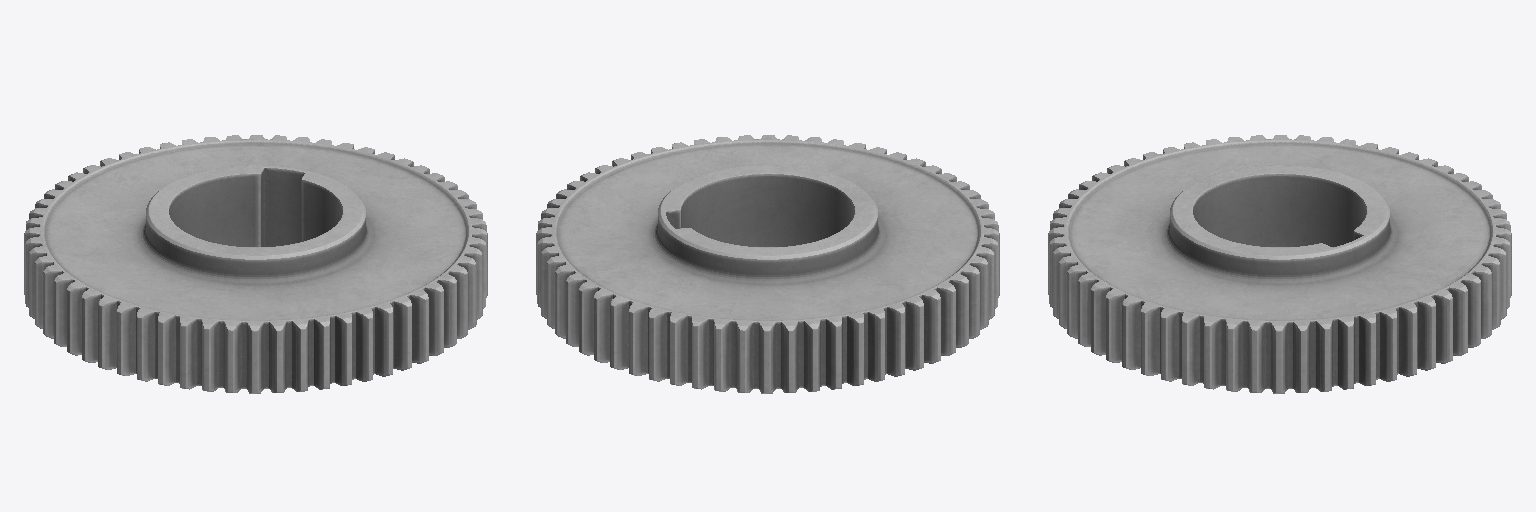
3 renders of one model, left to right at view 1: azimuth 30°, elevation 25°; view 2: azimuth 150°, elevation 25°; view 3: azimuth 270°, elevation 25°, orthographic.
Parts seen in each view (by area): view 1: Gear2; view 2: Gear2; view 3: Gear2.
Part boxes in pixels (bbox=[...]): Gear2: bbox=[24, 135, 487, 393]; Gear2: bbox=[536, 135, 999, 393]; Gear2: bbox=[1048, 135, 1511, 393].
Bounding box in the file's own units: 18.14 × 3.93 × 18.14.
Materials: 1 (1 with a texture image).